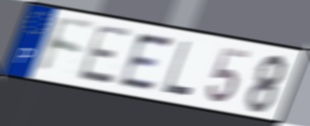5: (206, 44, 253, 104)
8: (244, 52, 287, 114)
E: (75, 23, 135, 88), (117, 31, 177, 92)
F: (36, 14, 96, 77)
L: (161, 38, 195, 98)
